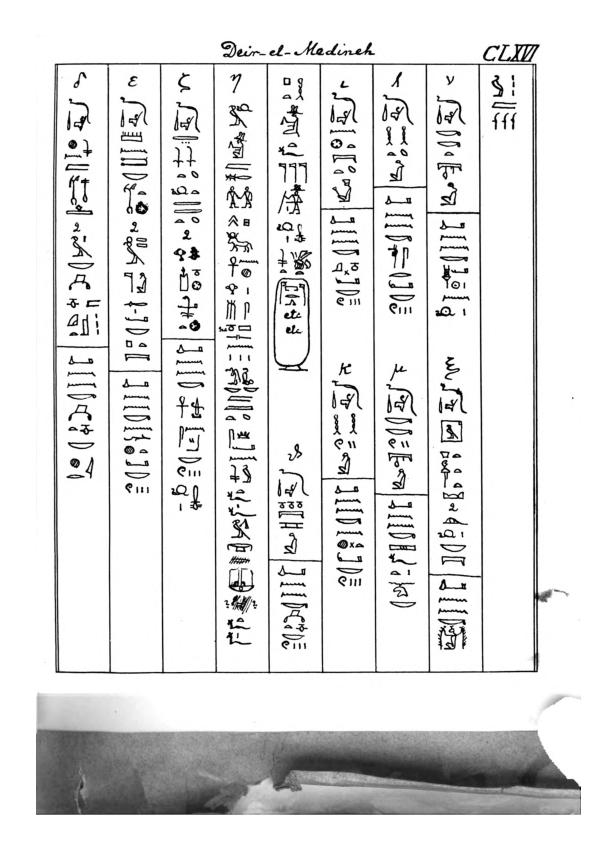circle: (271, 275, 311, 375)
